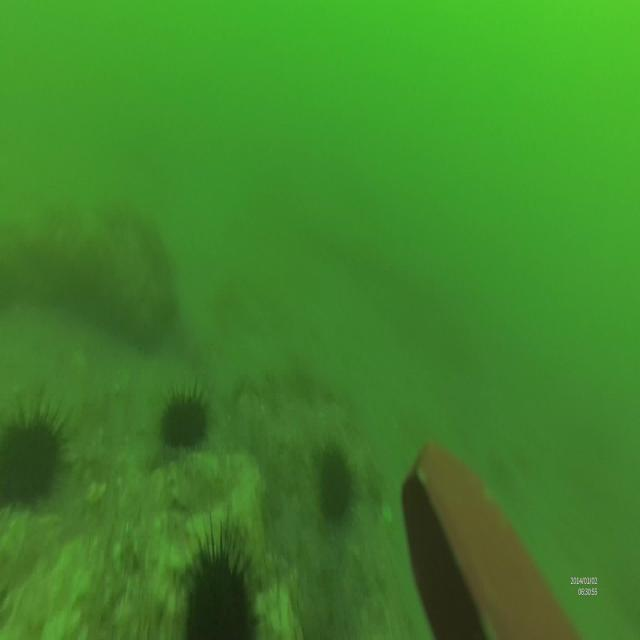echinus: (181, 516, 263, 640), (0, 393, 66, 507), (313, 440, 359, 525), (158, 385, 214, 447)
